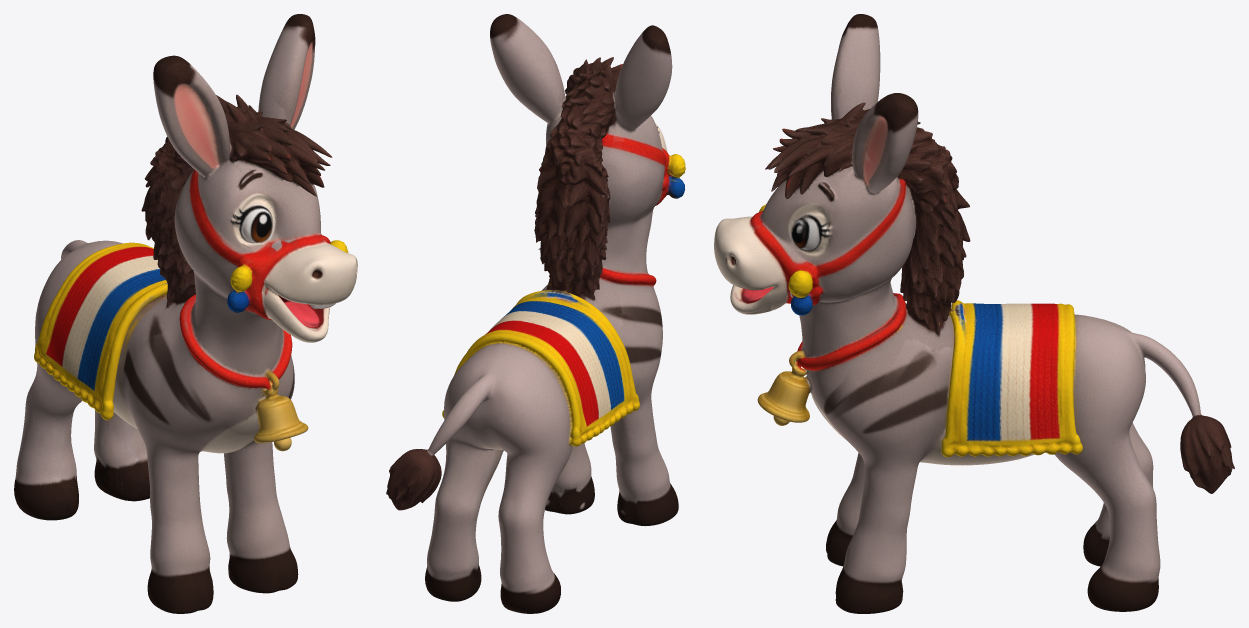
File: fiesta-donkey.glb
3 renders of one model, left to right at view 1: azimuth 30°, elevation 25°; view 2: azimuth 150°, elevation 25°; view 3: azimuth 270°, elevation 25°, orthographic. The views are drawn at different scales.
Bounding box in the file's own units: 0.681 × 1.9 × 1.65.
1 material, 1 textured.
